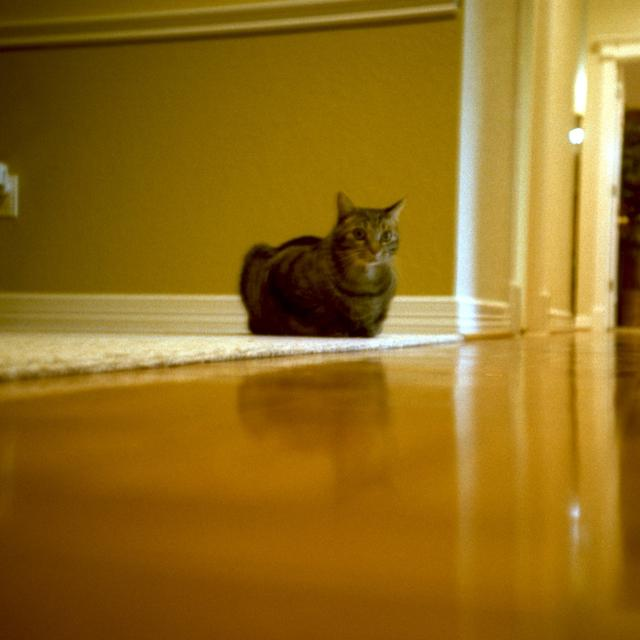animals: (337, 192, 406, 253)
